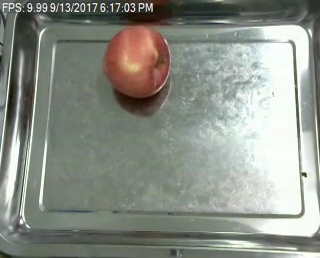Apple: (101, 24, 172, 96)
